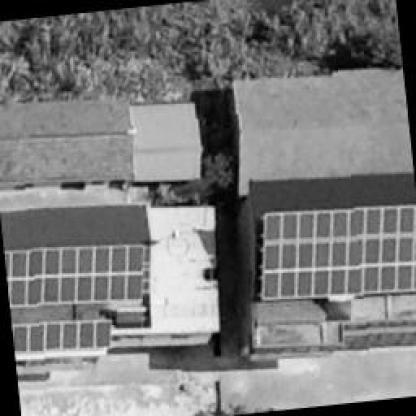solar-pv-panel: (256, 206, 416, 299), (4, 244, 144, 306), (12, 320, 111, 351)
